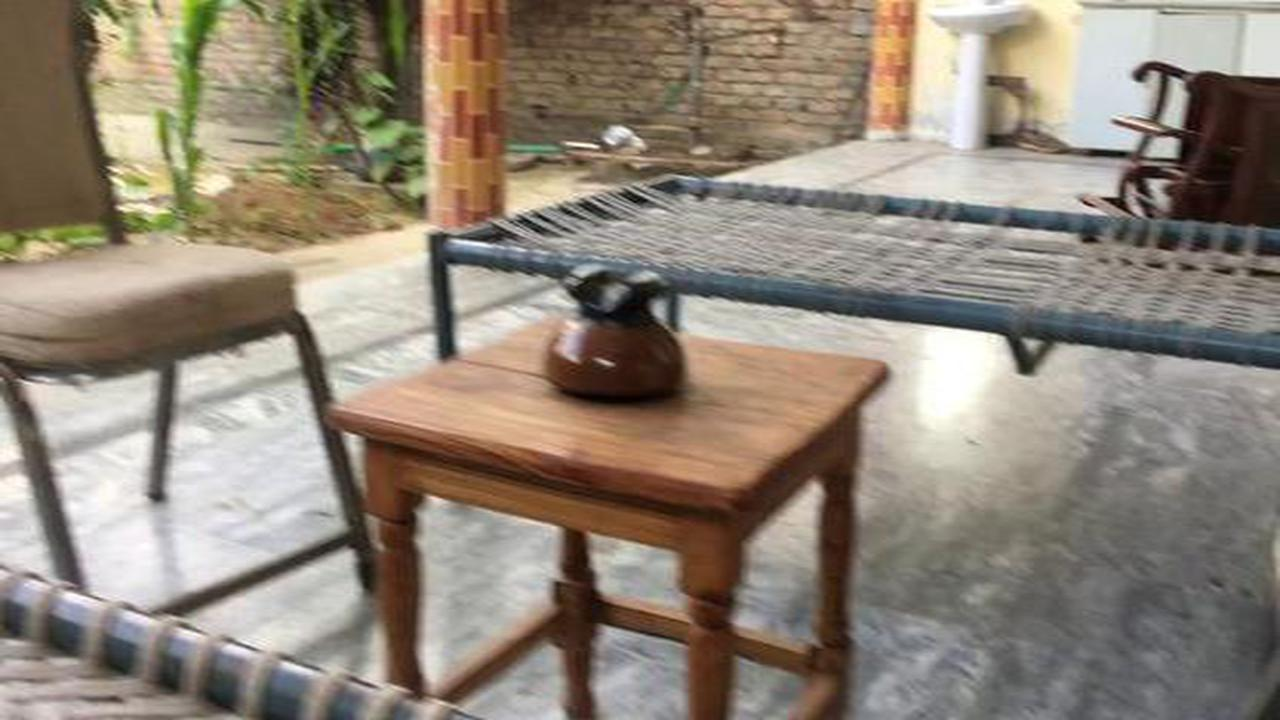insulator_pin: (530, 234, 708, 416)
